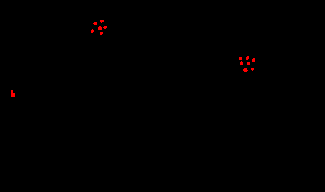Target: (11, 90, 15, 97), (243, 68, 248, 72), (98, 26, 102, 30), (100, 20, 104, 23), (93, 22, 97, 25), (103, 26, 107, 29), (91, 29, 94, 33), (246, 56, 249, 60), (252, 58, 255, 62), (240, 61, 243, 65), (100, 32, 103, 35), (239, 57, 242, 60), (247, 62, 250, 65), (251, 68, 254, 71)
